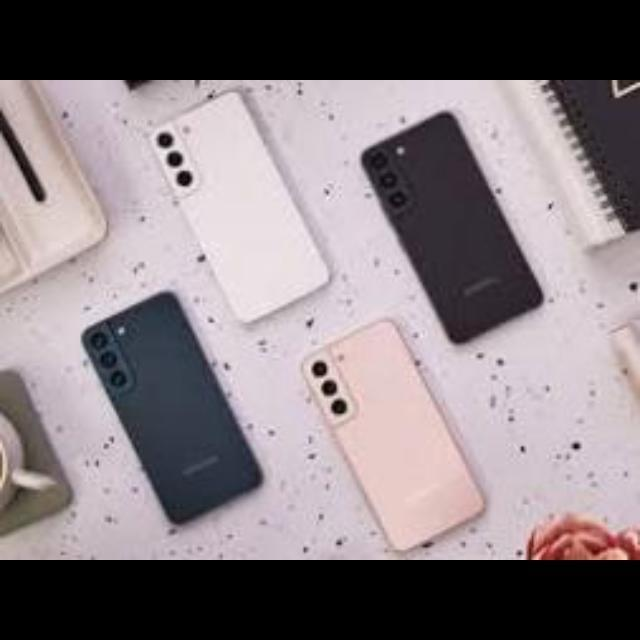phone: (143, 97, 336, 335), (289, 339, 511, 535), (88, 289, 264, 527), (372, 113, 544, 344)
